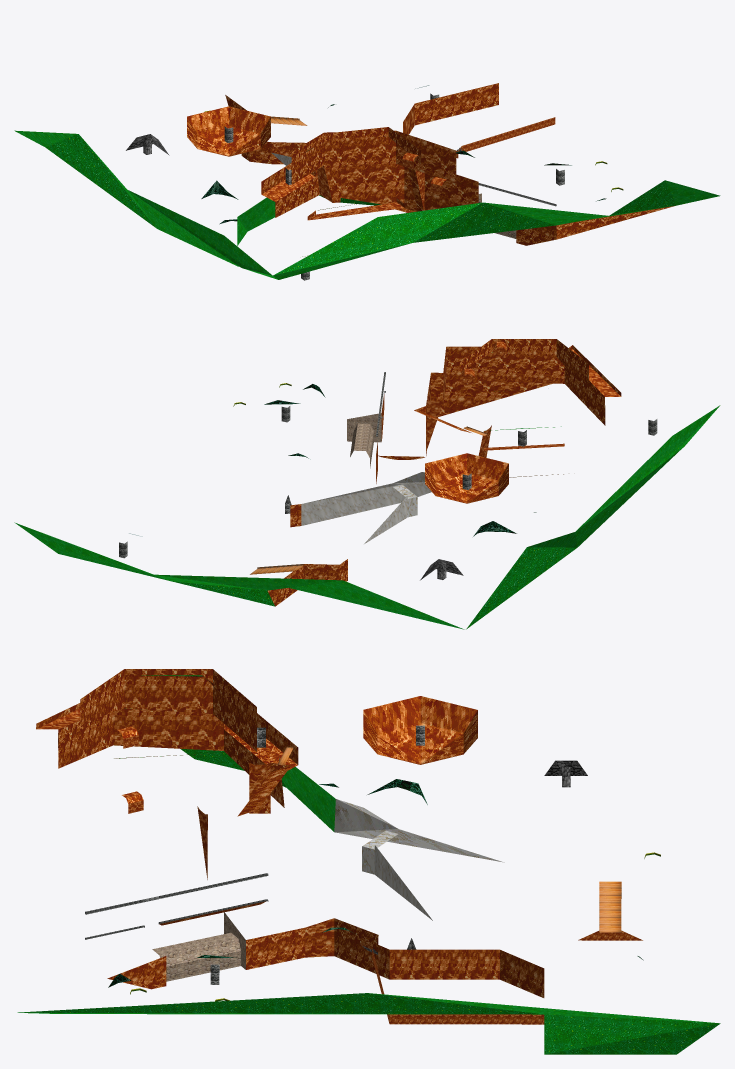
3 renders of one model, top to bottom at view 1: azimuth 30°, elevation 25°; view 2: azimuth 150°, elevation 25°; view 3: azimuth 270°, elevation 25°, orthographic. The views are drawn at different scales.
Parts seen in each view (by area): view 1: Shape_IndexedFaceSet.022, Shape_IndexedFaceSet.009, Shape_IndexedFaceSet.013, Shape_IndexedFaceSet.017; view 2: Shape_IndexedFaceSet.022, Shape_IndexedFaceSet.009, Shape_IndexedFaceSet.016, Shape_IndexedFaceSet.015, Shape_IndexedFaceSet.013; view 3: Shape_IndexedFaceSet.022, Shape_IndexedFaceSet.009, Shape_IndexedFaceSet.016, Shape_IndexedFaceSet.015, Shape_IndexedFaceSet.013, Shape_IndexedFaceSet.011, Shape_IndexedFaceSet.014, Shape_IndexedFaceSet.017, Shape_IndexedFaceSet.029.
Boxes of the visible parts, <box> form: Shape_IndexedFaceSet.022: <box>187,83,675,245</box>; Shape_IndexedFaceSet.009: <box>14,130,720,279</box>; Shape_IndexedFaceSet.013: <box>224,93,564,280</box>; Shape_IndexedFaceSet.017: <box>126,134,461,155</box>; Shape_IndexedFaceSet.022: <box>267,339,621,606</box>; Shape_IndexedFaceSet.009: <box>14,405,720,629</box>; Shape_IndexedFaceSet.016: <box>301,472,431,543</box>; Shape_IndexedFaceSet.015: <box>347,413,381,468</box>; Shape_IndexedFaceSet.013: <box>119,372,657,558</box>; Shape_IndexedFaceSet.022: <box>36,669,642,1024</box>; Shape_IndexedFaceSet.009: <box>17,748,720,1054</box>; Shape_IndexedFaceSet.016: <box>334,799,504,920</box>; Shape_IndexedFaceSet.015: <box>152,912,245,981</box>; Shape_IndexedFaceSet.013: <box>58,725,424,984</box>; Shape_IndexedFaceSet.011: <box>278,746,621,932</box>; Shape_IndexedFaceSet.014: <box>108,779,643,987</box>; Shape_IndexedFaceSet.017: <box>362,760,587,954</box>; Shape_IndexedFaceSet.029: <box>117,726,143,813</box>.
Size of what is drawn, in the model's own units: 16.39 by 4.7 by 16.38.
Materials: 19 (19 with a texture image).
